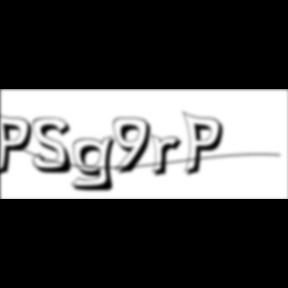9: (114, 117, 158, 177)
P: (182, 110, 230, 180), (0, 110, 38, 180)
S: (32, 117, 78, 176)
g: (71, 134, 123, 194)
r: (150, 134, 188, 180)
